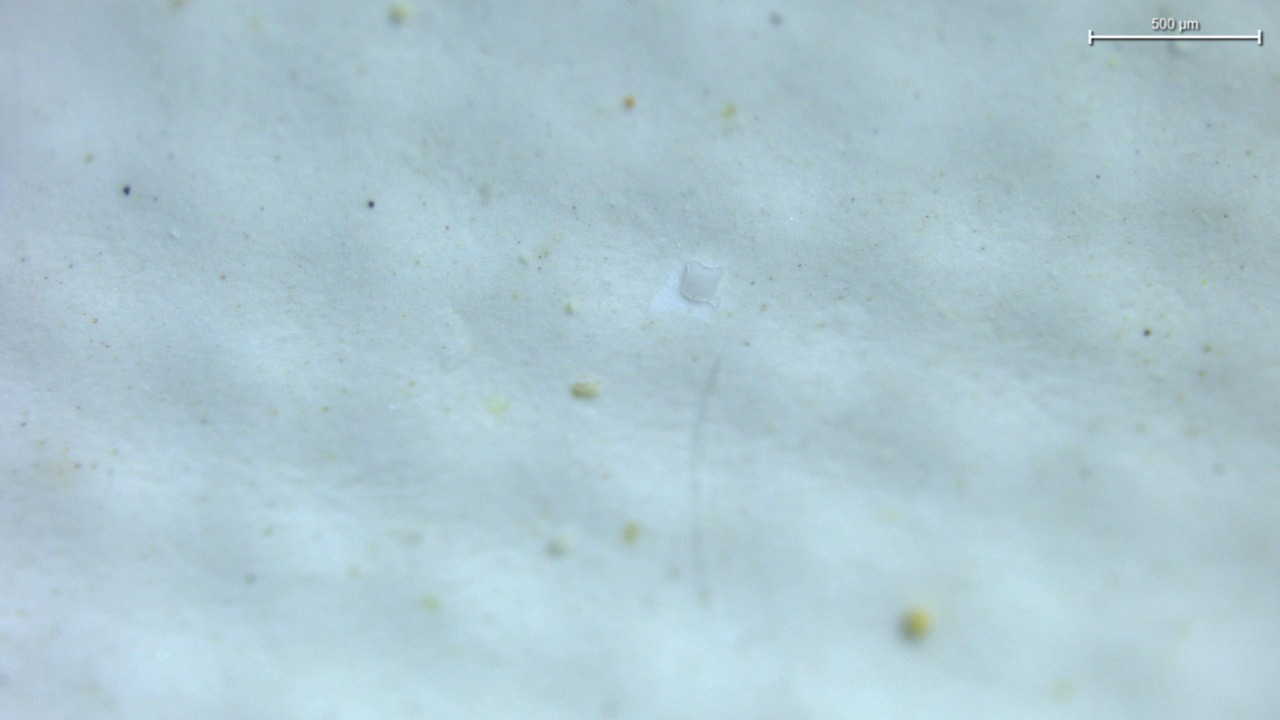microplastic_fragment: (680, 261, 722, 302)
